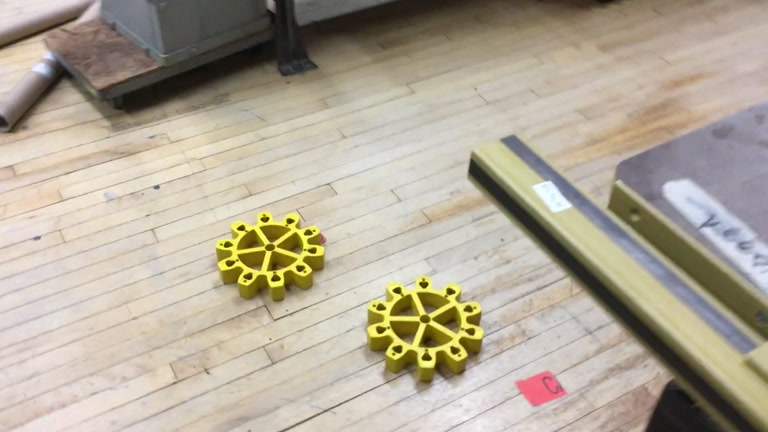gear: (364, 275, 484, 385), (215, 212, 326, 302)
